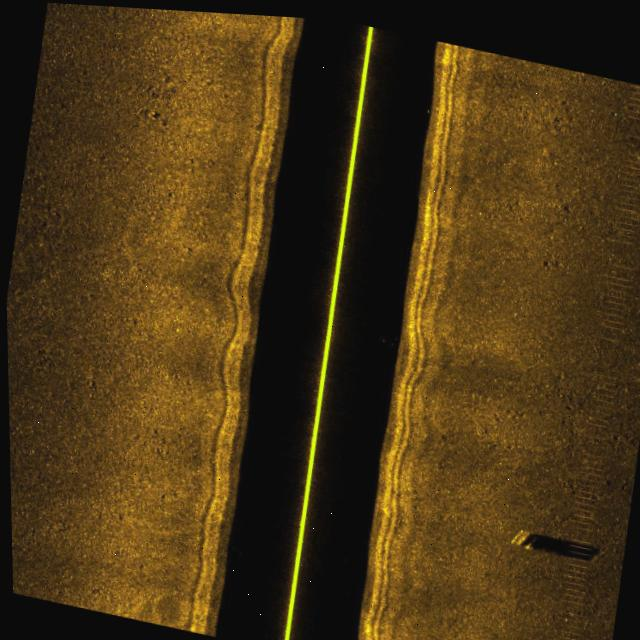other: (503, 516, 601, 562)
